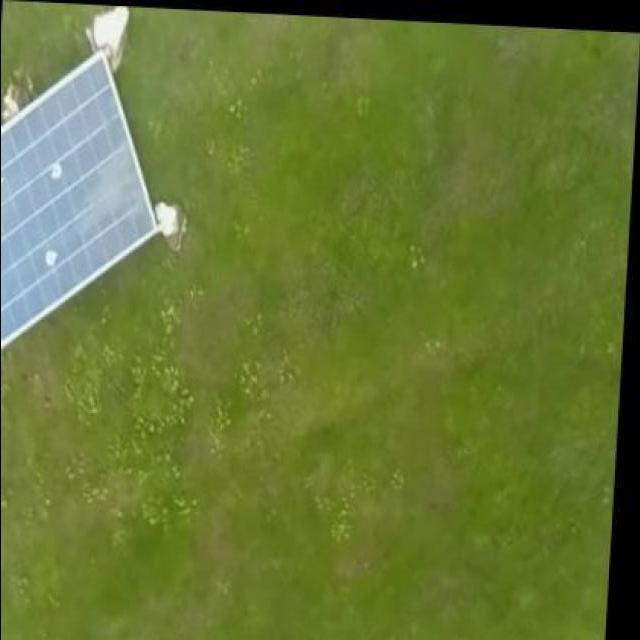soiled: (1, 52, 157, 364)
